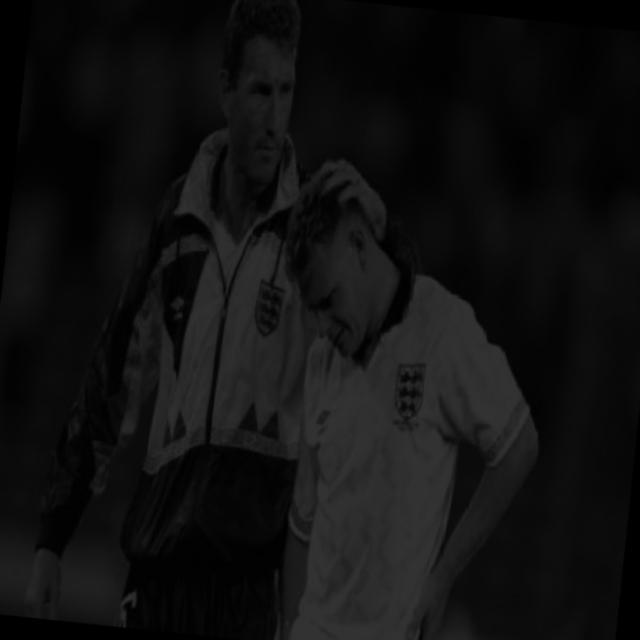Sad: (173, 0, 336, 201), (245, 229, 442, 369)
